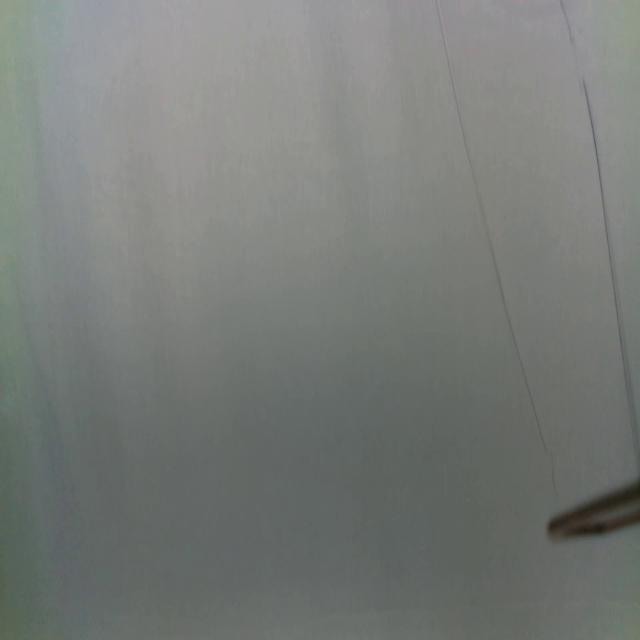crease: (436, 0, 548, 460), (559, 0, 637, 451)
